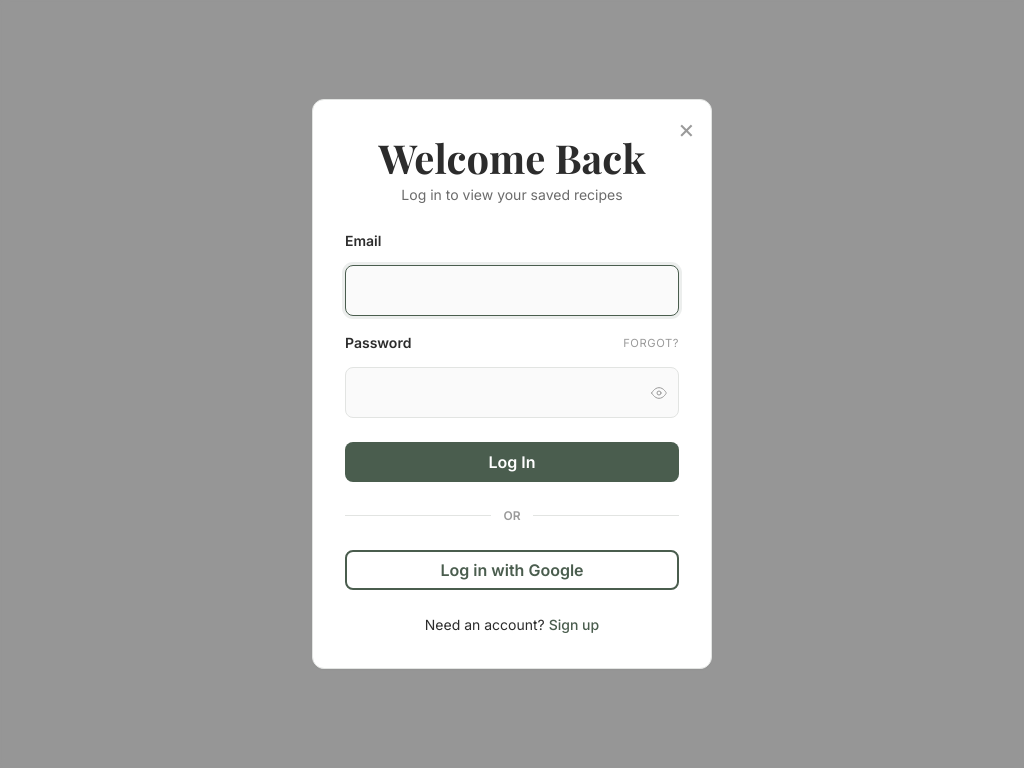
Test: LoginModal Component › handles google login error (non-popup-closed)
This screenshot has width=1024, height=768.
What coordinates should you click on to do the following:
click the button "Log in with Google"
I would click on:
 (512, 570)
Its box is [345,550,679,590].
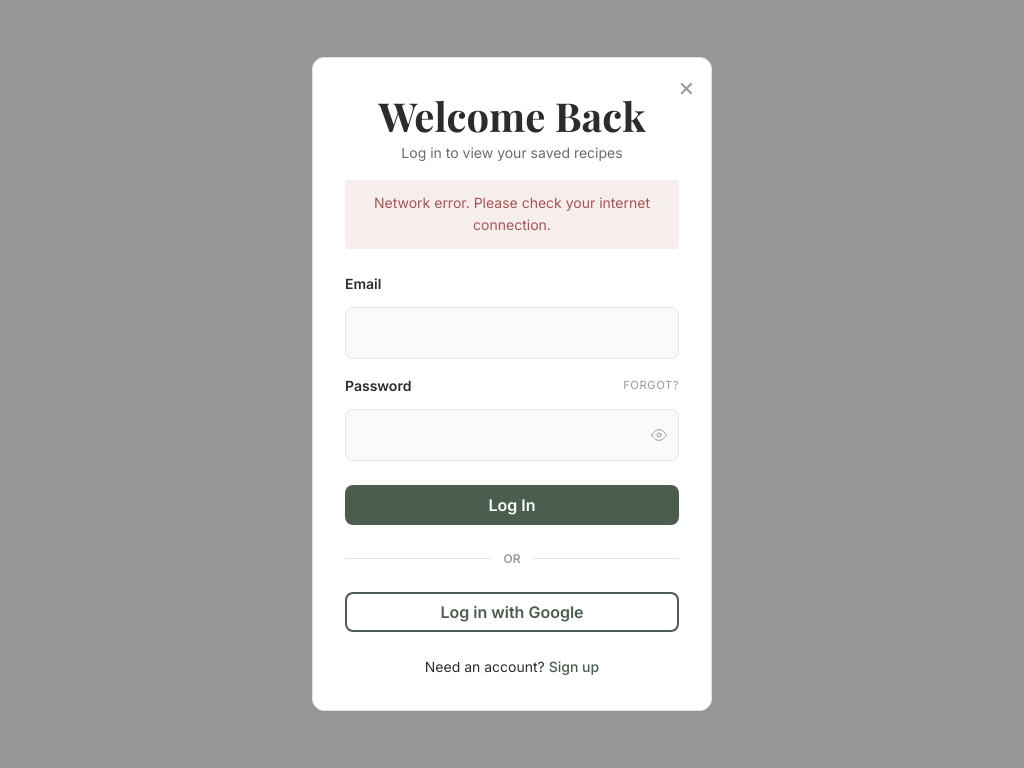
Now the text "Network error. Please check your internet connection." is shown, box [345,180,679,249]
